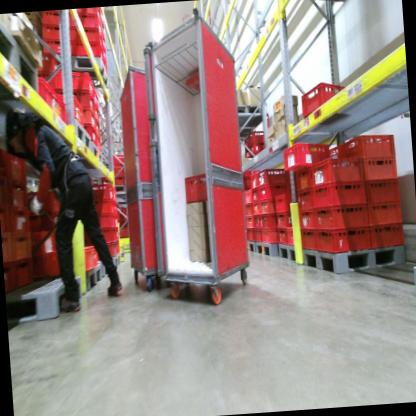pallet: (300, 232, 408, 280), (5, 274, 87, 327), (0, 12, 42, 106), (63, 52, 110, 92), (281, 0, 358, 10), (237, 102, 265, 129), (83, 262, 106, 292), (75, 118, 94, 149), (277, 241, 299, 264), (256, 238, 278, 260), (93, 141, 108, 168), (107, 252, 122, 278), (111, 180, 128, 198), (410, 263, 416, 301), (245, 239, 257, 256)
small_load_carrier: (339, 130, 398, 165), (34, 73, 70, 130), (310, 178, 368, 211), (299, 81, 349, 118), (310, 156, 366, 189), (316, 222, 372, 255), (281, 137, 333, 169), (314, 200, 369, 225), (54, 67, 95, 100), (365, 176, 402, 206), (181, 171, 214, 204), (370, 220, 406, 250), (364, 155, 400, 183), (367, 199, 404, 226), (7, 174, 30, 213), (6, 150, 29, 188), (42, 228, 71, 258), (81, 206, 114, 232), (258, 181, 290, 207), (73, 12, 104, 38), (71, 41, 104, 64), (83, 221, 114, 245), (8, 201, 31, 232), (11, 230, 34, 261), (32, 50, 61, 74), (16, 257, 36, 291), (86, 179, 114, 203), (258, 167, 288, 188), (67, 91, 85, 126), (42, 255, 69, 278), (42, 23, 73, 42), (72, 26, 103, 45), (42, 10, 74, 28), (42, 37, 72, 56), (293, 163, 312, 192), (81, 243, 99, 271), (299, 204, 316, 233), (298, 227, 318, 251), (35, 64, 55, 87), (244, 142, 269, 160), (1, 228, 13, 265), (296, 184, 313, 210), (5, 260, 18, 292), (274, 209, 294, 229), (275, 194, 294, 214), (108, 150, 128, 169), (84, 119, 98, 146), (81, 89, 96, 114), (93, 198, 116, 214), (0, 197, 10, 233), (0, 170, 11, 202), (261, 227, 279, 246), (31, 232, 43, 260), (248, 130, 266, 148), (260, 214, 279, 231), (75, 8, 101, 20), (83, 106, 97, 128), (260, 198, 278, 215), (286, 225, 299, 246), (32, 210, 45, 231), (0, 142, 8, 174), (325, 145, 342, 160), (111, 166, 127, 179), (104, 243, 115, 260), (94, 88, 101, 114), (278, 227, 288, 245), (96, 131, 103, 154), (242, 175, 253, 189), (251, 171, 260, 188), (251, 187, 260, 204), (246, 226, 255, 243), (111, 215, 121, 230), (243, 188, 252, 204), (245, 202, 254, 218), (246, 211, 254, 229), (111, 225, 120, 241), (253, 215, 262, 230), (254, 228, 263, 243), (242, 135, 249, 153), (253, 200, 261, 215), (95, 119, 101, 139), (95, 106, 100, 124), (114, 241, 120, 255)
